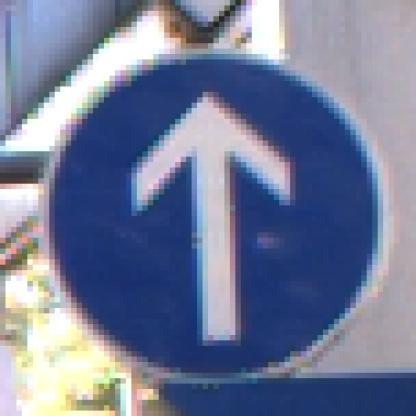AheadOnly: (39, 39, 379, 385)
